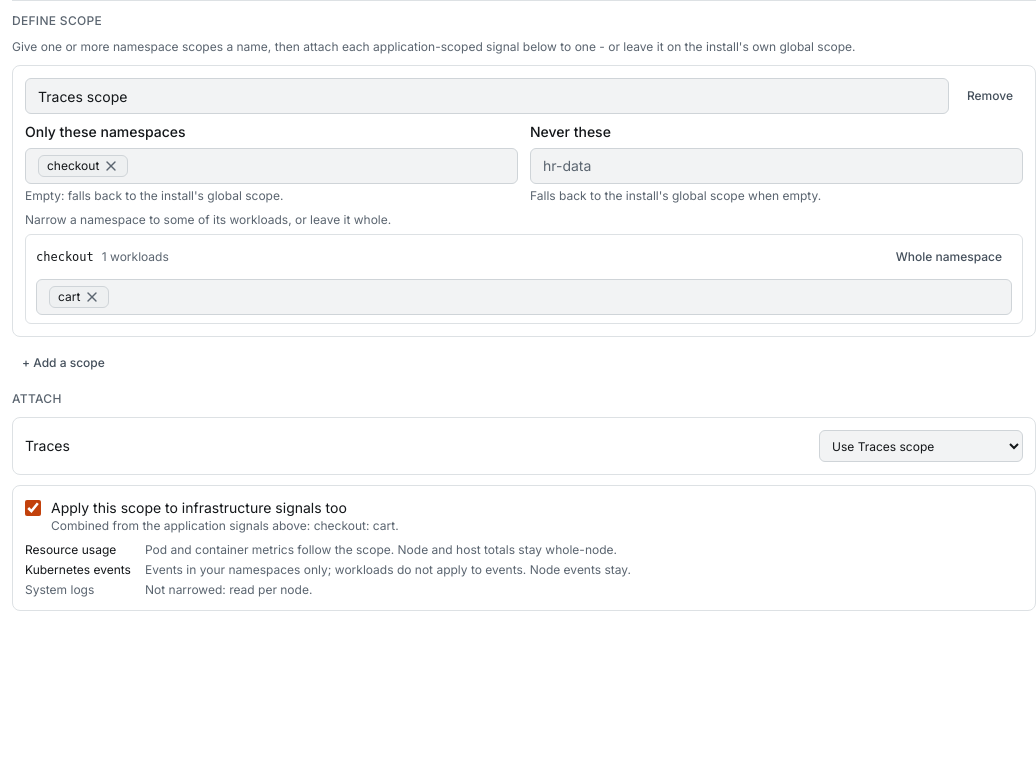
GuidedScope infrastructure switch › says what the infrastructure signals follow, signal by signal, and switches off
Expected: the text with test id "s-guided-infra-where" shows "checkout: cart", [314,518,395,533]
Expected: the list item with test id "s-guided-infra-effect-resourceUsage" shows "Pod and container metrics follow the scope", [145,542,617,557]
Click the checkbox with test id "s-guided-infra-follow". click: [33, 508]
box: [25,500,41,516]
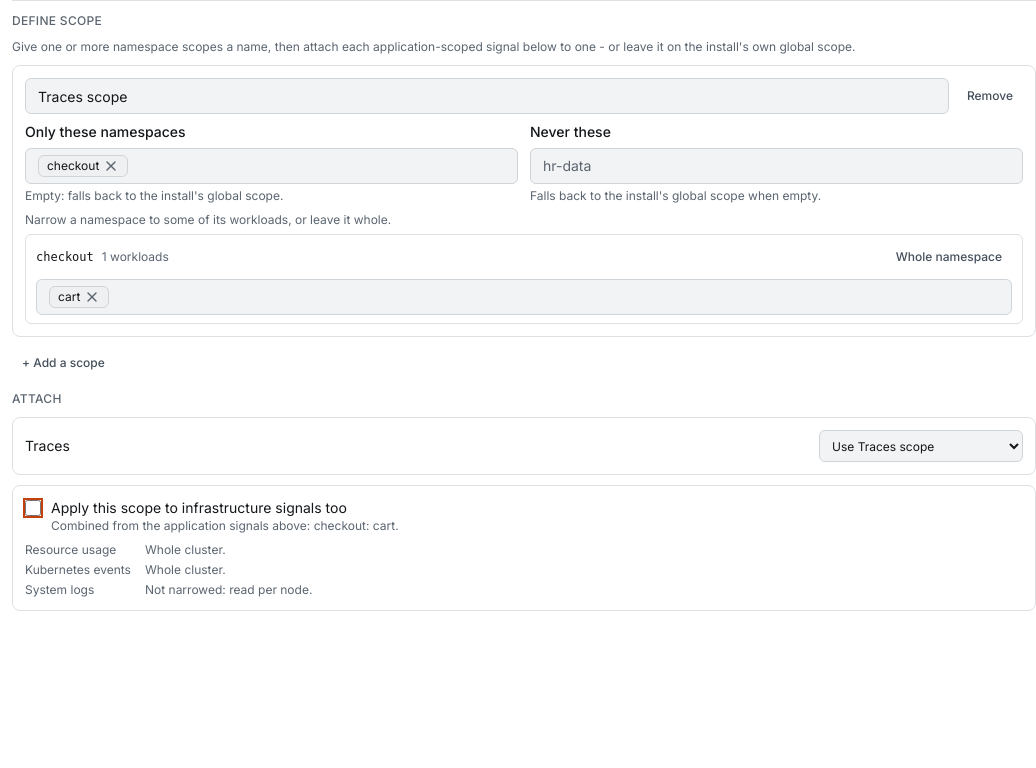
Expected: the list item with test id "s-guided-infra-effect-resourceUsage" shows "Whole cluster.", [145,542,226,557]
